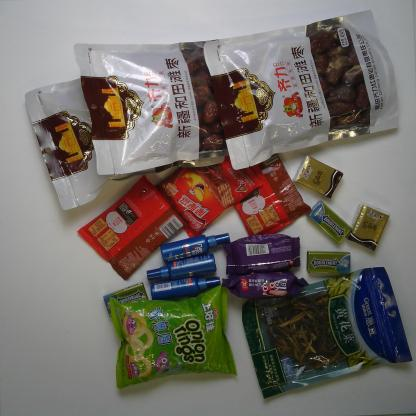Dessert: (74, 172, 191, 284), (152, 152, 266, 241), (213, 145, 315, 242), (220, 232, 303, 276), (219, 269, 310, 301)
Dried Food: (198, 8, 405, 176), (16, 74, 228, 216), (239, 260, 416, 402), (70, 32, 238, 178)
Gum: (305, 199, 353, 245), (101, 280, 152, 320), (304, 249, 352, 277)
Personal Hygiene: (159, 231, 233, 265), (145, 250, 218, 282), (149, 274, 223, 304)
Puffed Food: (105, 281, 239, 392)
Tissue: (292, 152, 346, 200), (345, 201, 394, 245)
